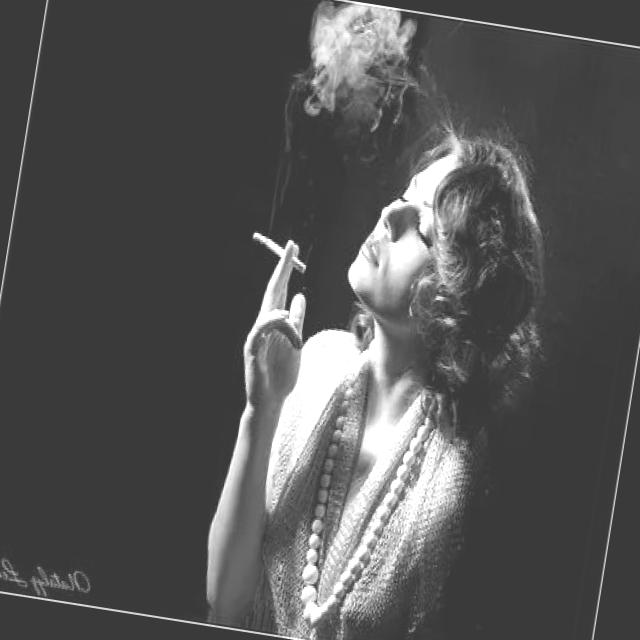cigarette: (243, 224, 316, 282)
